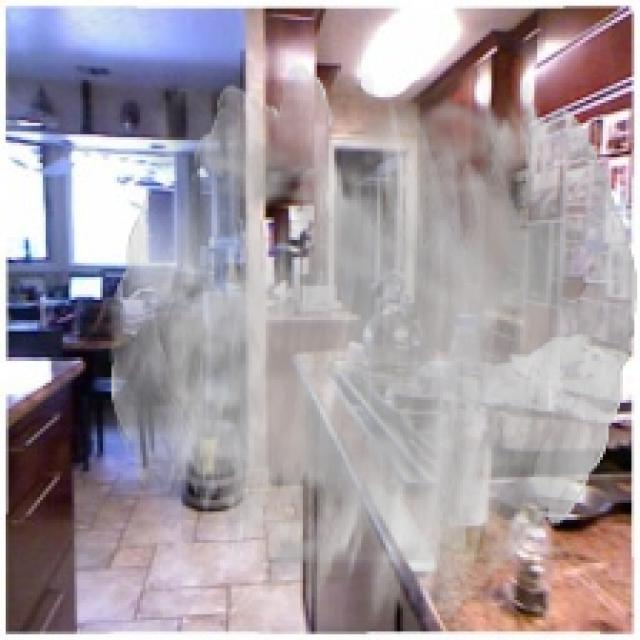smoke: (109, 63, 637, 628)
